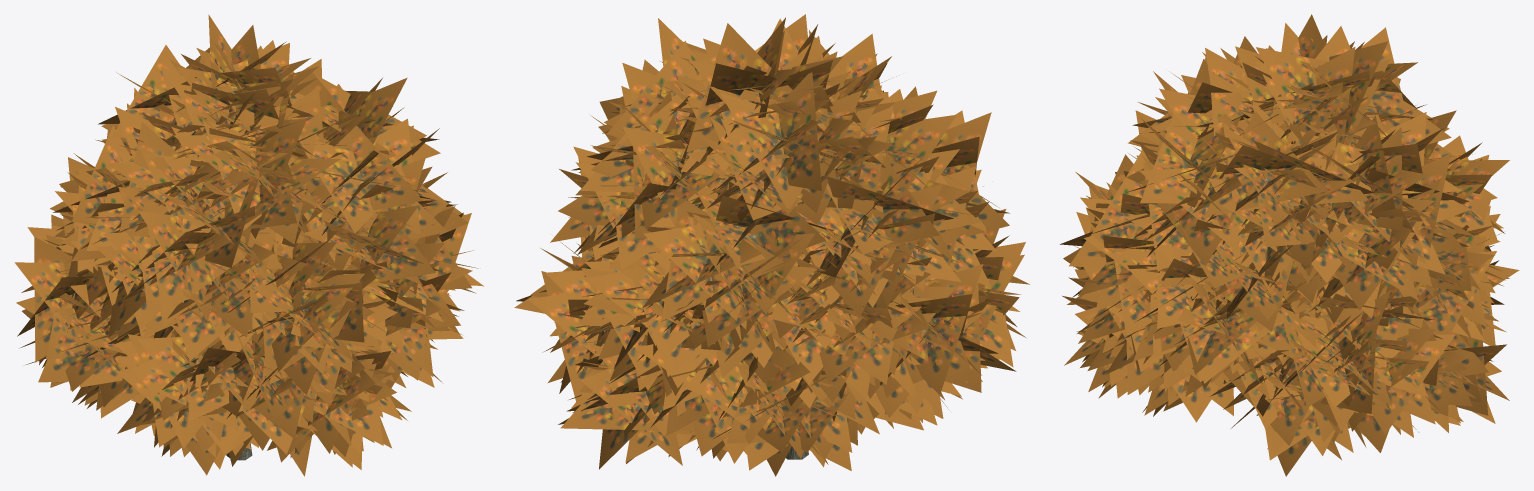
File: Prunus_Armeniaca_Autumn_Adult.glb
3 views of the same model, side by side, from view 1: azimuth 30°, elevation 25°; view 2: azimuth 150°, elevation 25°; view 3: azimuth 270°, elevation 25° (orthographic). The views are drawn at different scales.
Visible parts, largest first — view 1: Prunus_Armeniaca_Autumn_Adult__LOD3; view 2: Prunus_Armeniaca_Autumn_Adult__LOD3; view 3: Prunus_Armeniaca_Autumn_Adult__LOD3.
Boxes of the visible parts, box(x1,y1,x2,y2) form: Prunus_Armeniaca_Autumn_Adult__LOD3: box(14, 14, 483, 476); Prunus_Armeniaca_Autumn_Adult__LOD3: box(514, 14, 1029, 476); Prunus_Armeniaca_Autumn_Adult__LOD3: box(1060, 14, 1519, 476).
Size of the model in its own units: 10.32 by 9.31 by 9.72.
Materials: 2 (2 with a texture image).
